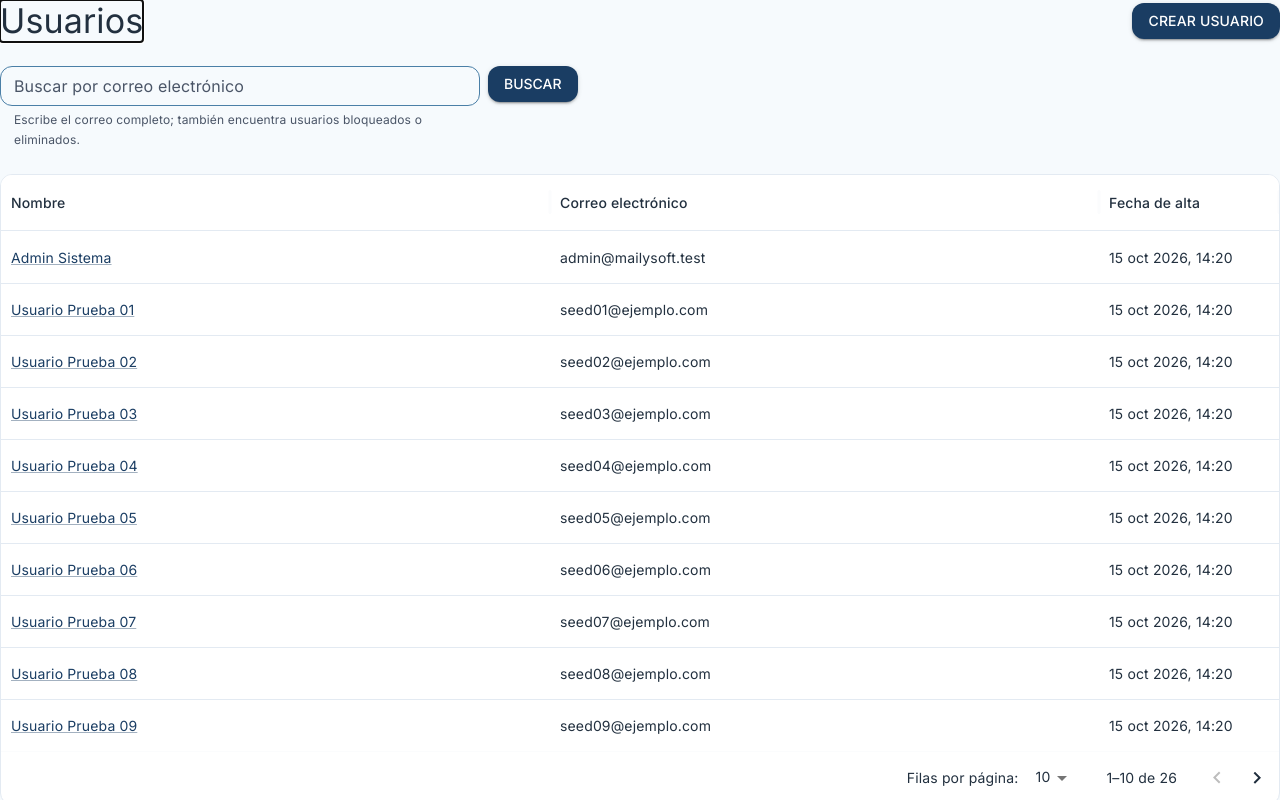
Test: UsersListPage: the list › writes the page in the address, and a new page size takes the list back to the first page (US1-2)
This screenshot has width=1280, height=800.
expect the link "Admin Sistema" is shown: met, box [11,249,112,266]
Click the button named "Ir a la página siguiente" at (1257, 778), box [1237,758,1277,798]
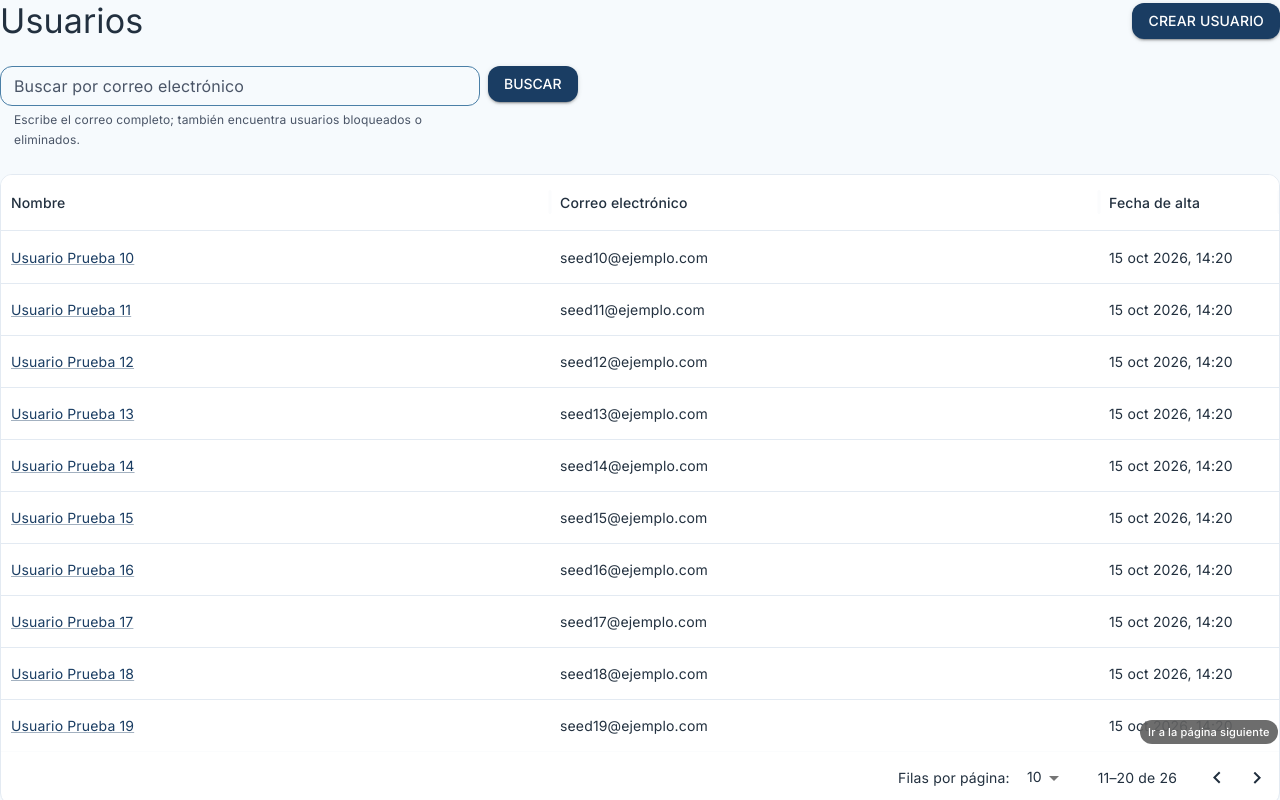
expect the text "11–20 de 26" is shown: met, box [1098,768,1177,788]
Click the dropdown named "filas por página" at (1034, 777), box [1027,768,1042,785]
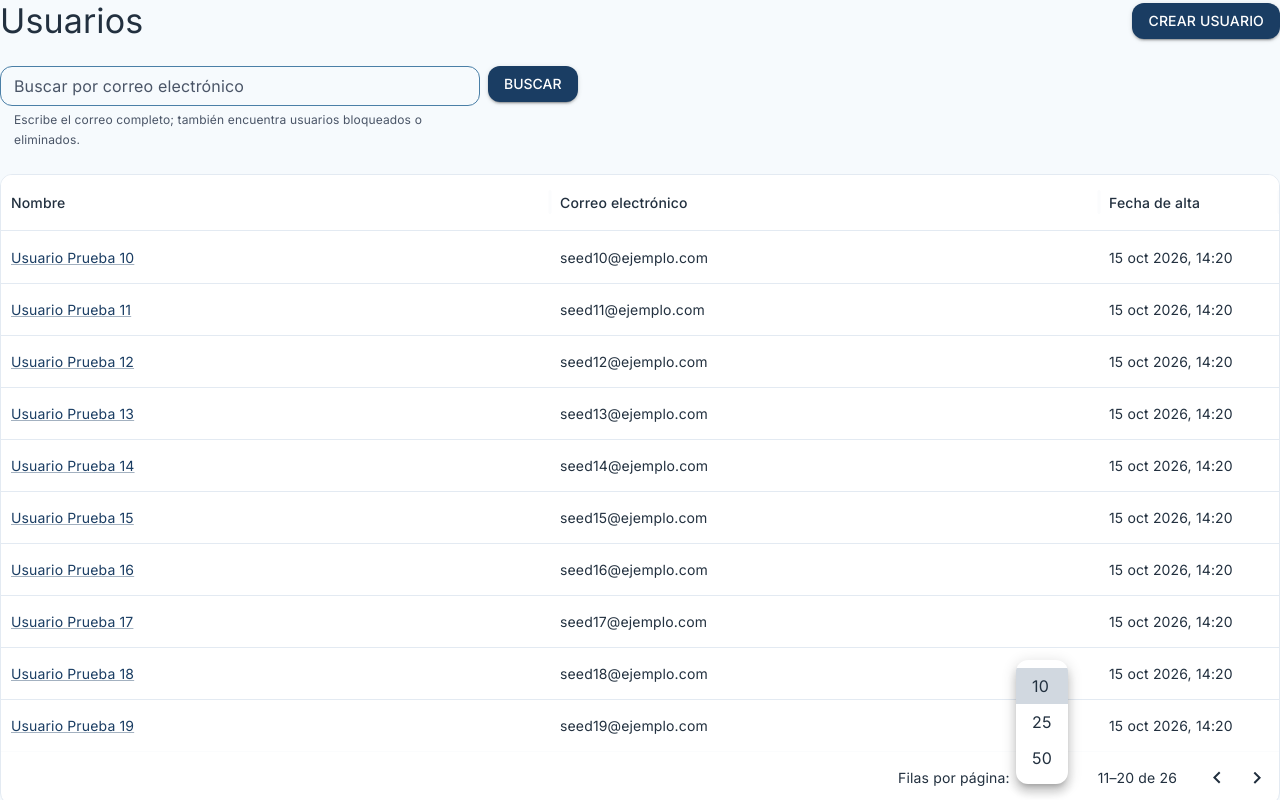
Click the option "25" at (1042, 722), box [1032,712,1052,732]
(page scrolled)
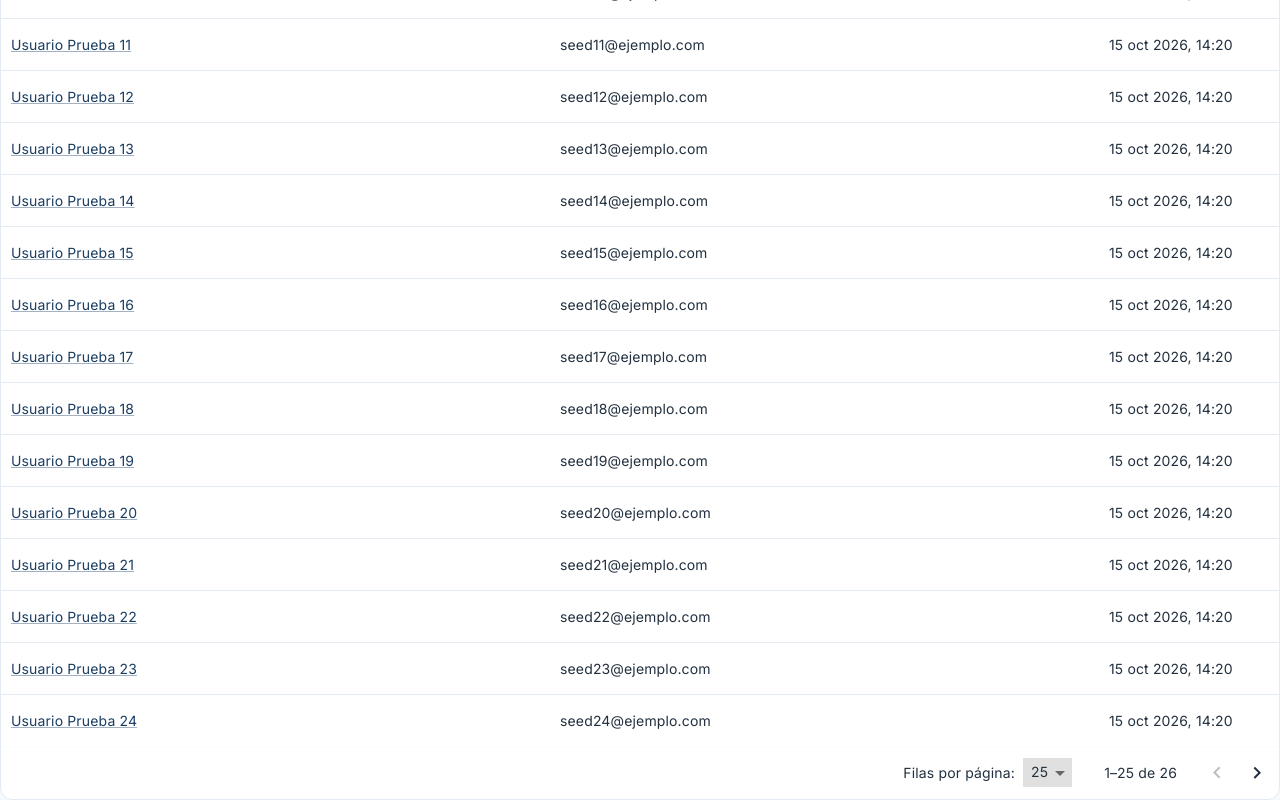
expect the text "1–25 de 26" is shown: met, box [1104,763,1177,783]
